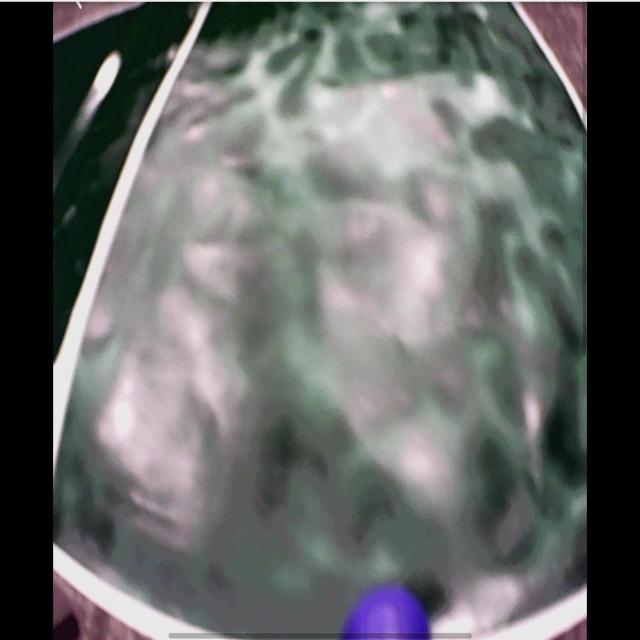ball: (340, 588, 429, 640)
